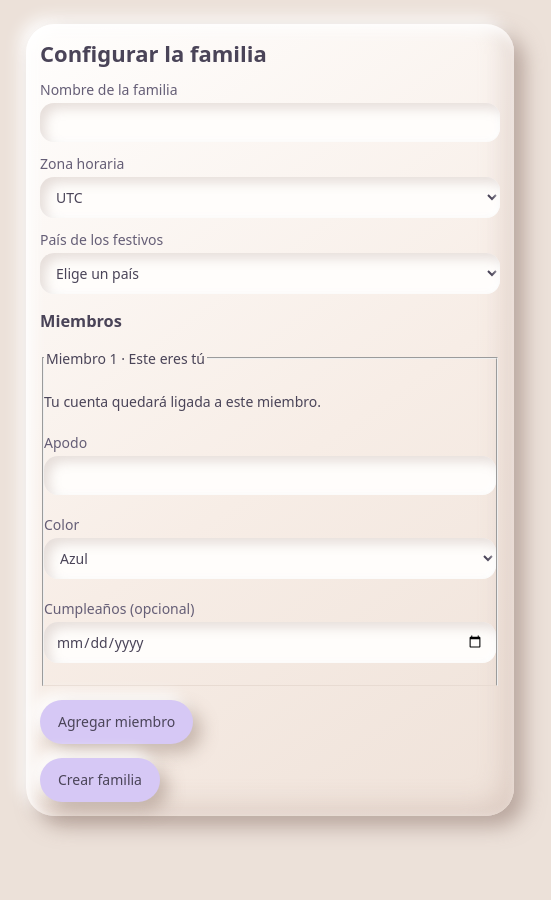
it: un error de la RPC se muestra en español
In the field labelled "Nombre de la familia": x=270, y=122 [40,103,500,142], type "Los Inventados"
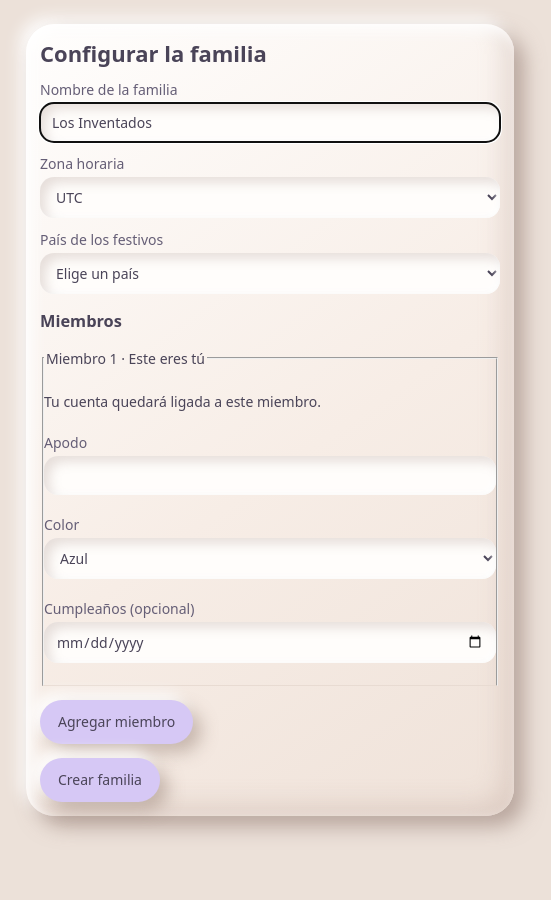
Select "MX" in the dropdown labelled "País de los festivos": x=270, y=274 [40,253,500,294]
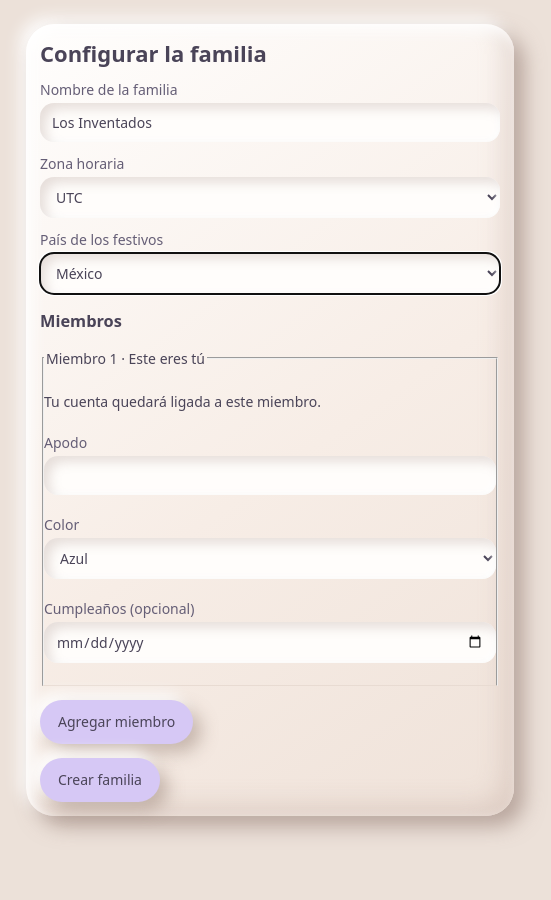
In the field labelled "Apodo": x=270, y=475 [44,456,496,495], type "Ana"
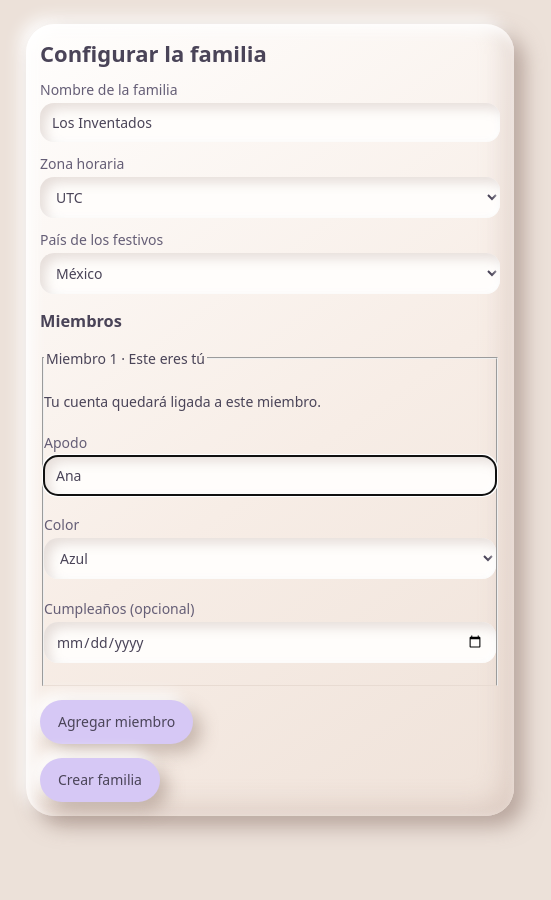
Click the button "Crear familia": x=100, y=780 [40,758,160,802]
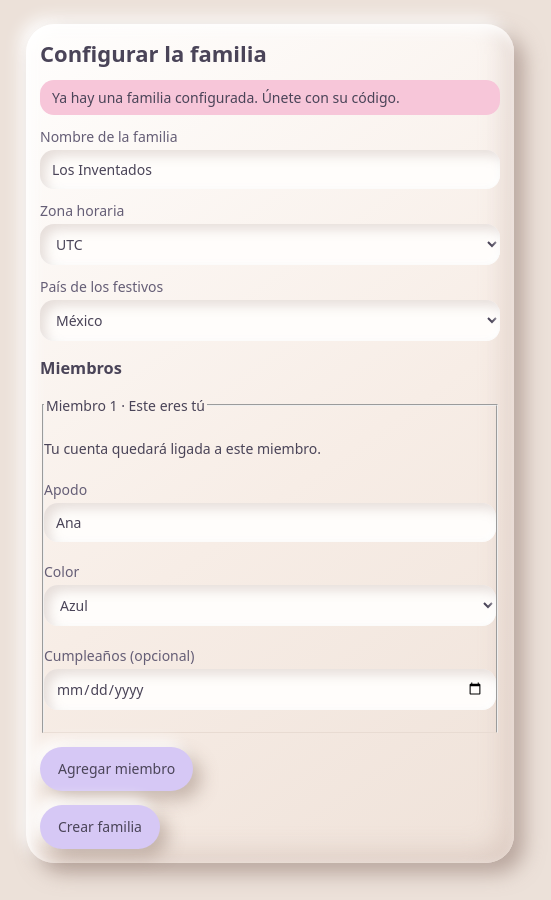
expect the message shows "Ya hay una familia configurada": met, box [52,88,400,107]
